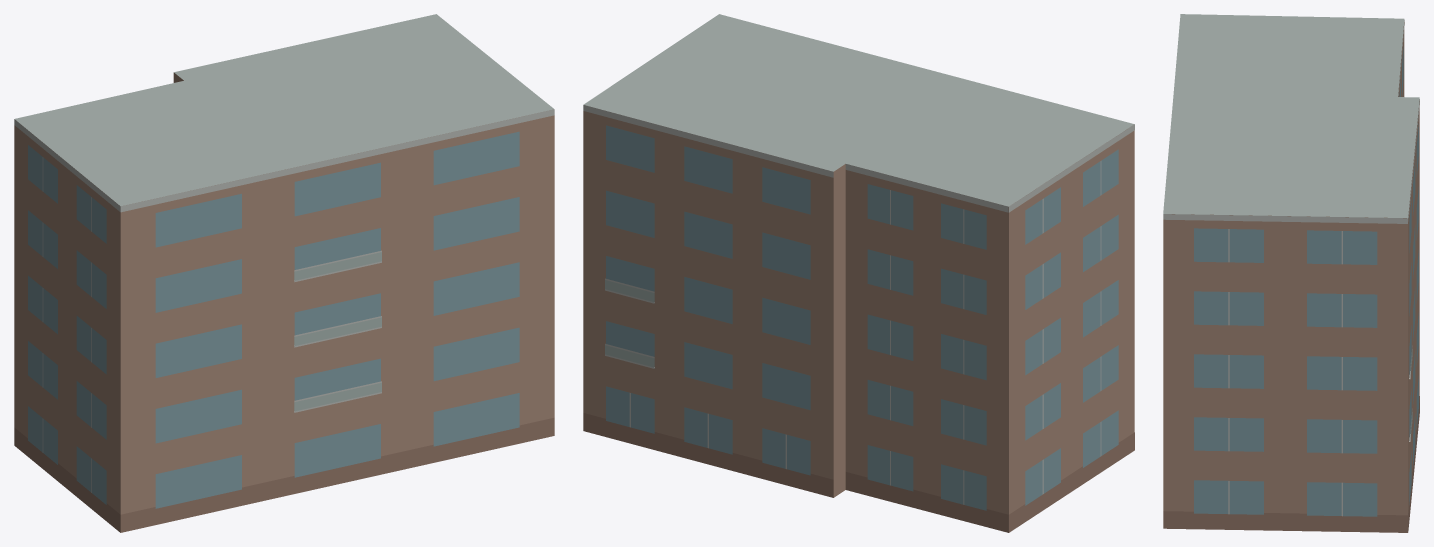
File: survey-upis-33044203.glb
3 renders of one model, left to right at view 1: azimuth 30°, elevation 25°; view 2: azimuth 150°, elevation 25°; view 3: azimuth 270°, elevation 25°, orthographic. The views are drawn at different scales.
Parts seen in each view (by area): view 1: survey-upis-33044203.tmp; view 2: survey-upis-33044203.tmp; view 3: survey-upis-33044203.tmp.
Part boxes in pixels (left/top/right/bottom): survey-upis-33044203.tmp: left=14, top=14, right=554, bottom=532; survey-upis-33044203.tmp: left=583, top=14, right=1134, bottom=532; survey-upis-33044203.tmp: left=1163, top=14, right=1419, bottom=532.
Size of the model in its own units: 18.23 by 13.1 by 9.69.
